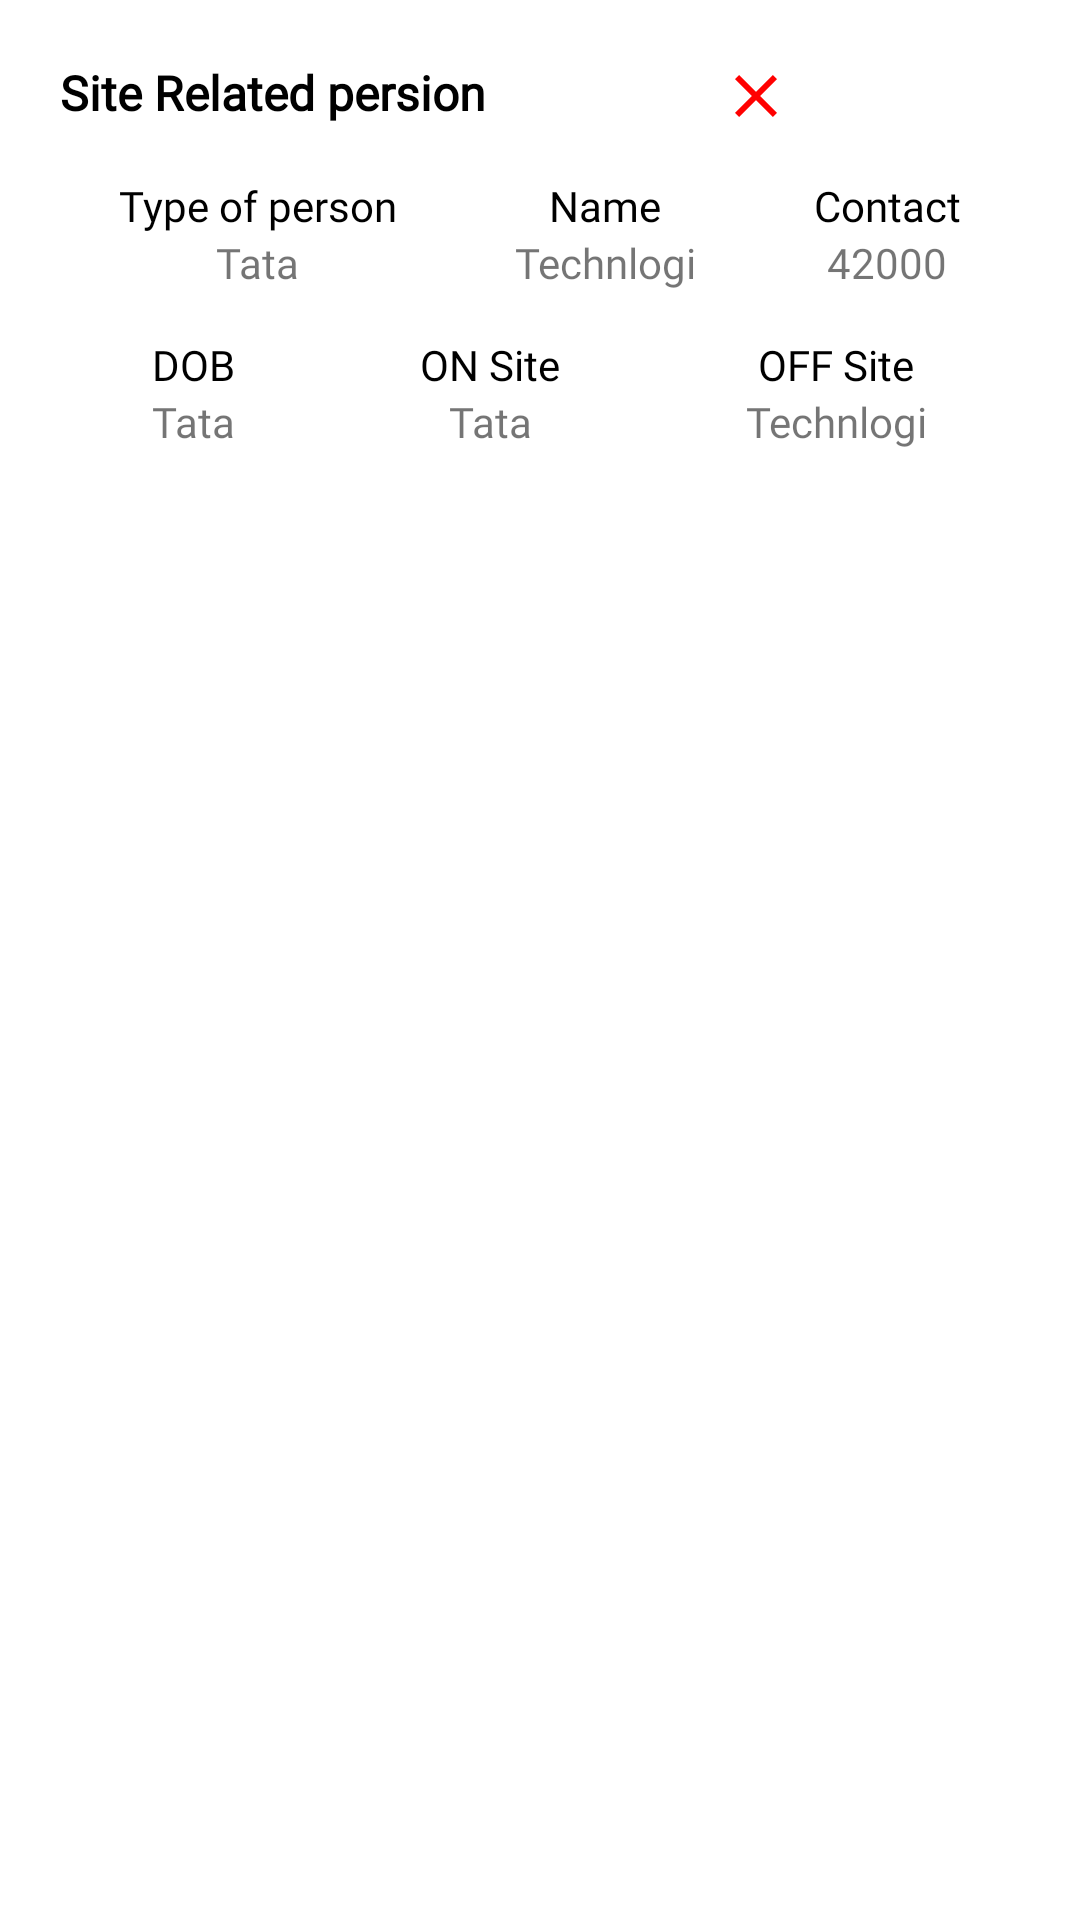

Named icons in this screenshot (1080*1920) and their centers, [x,y]:
close: [756,96]
